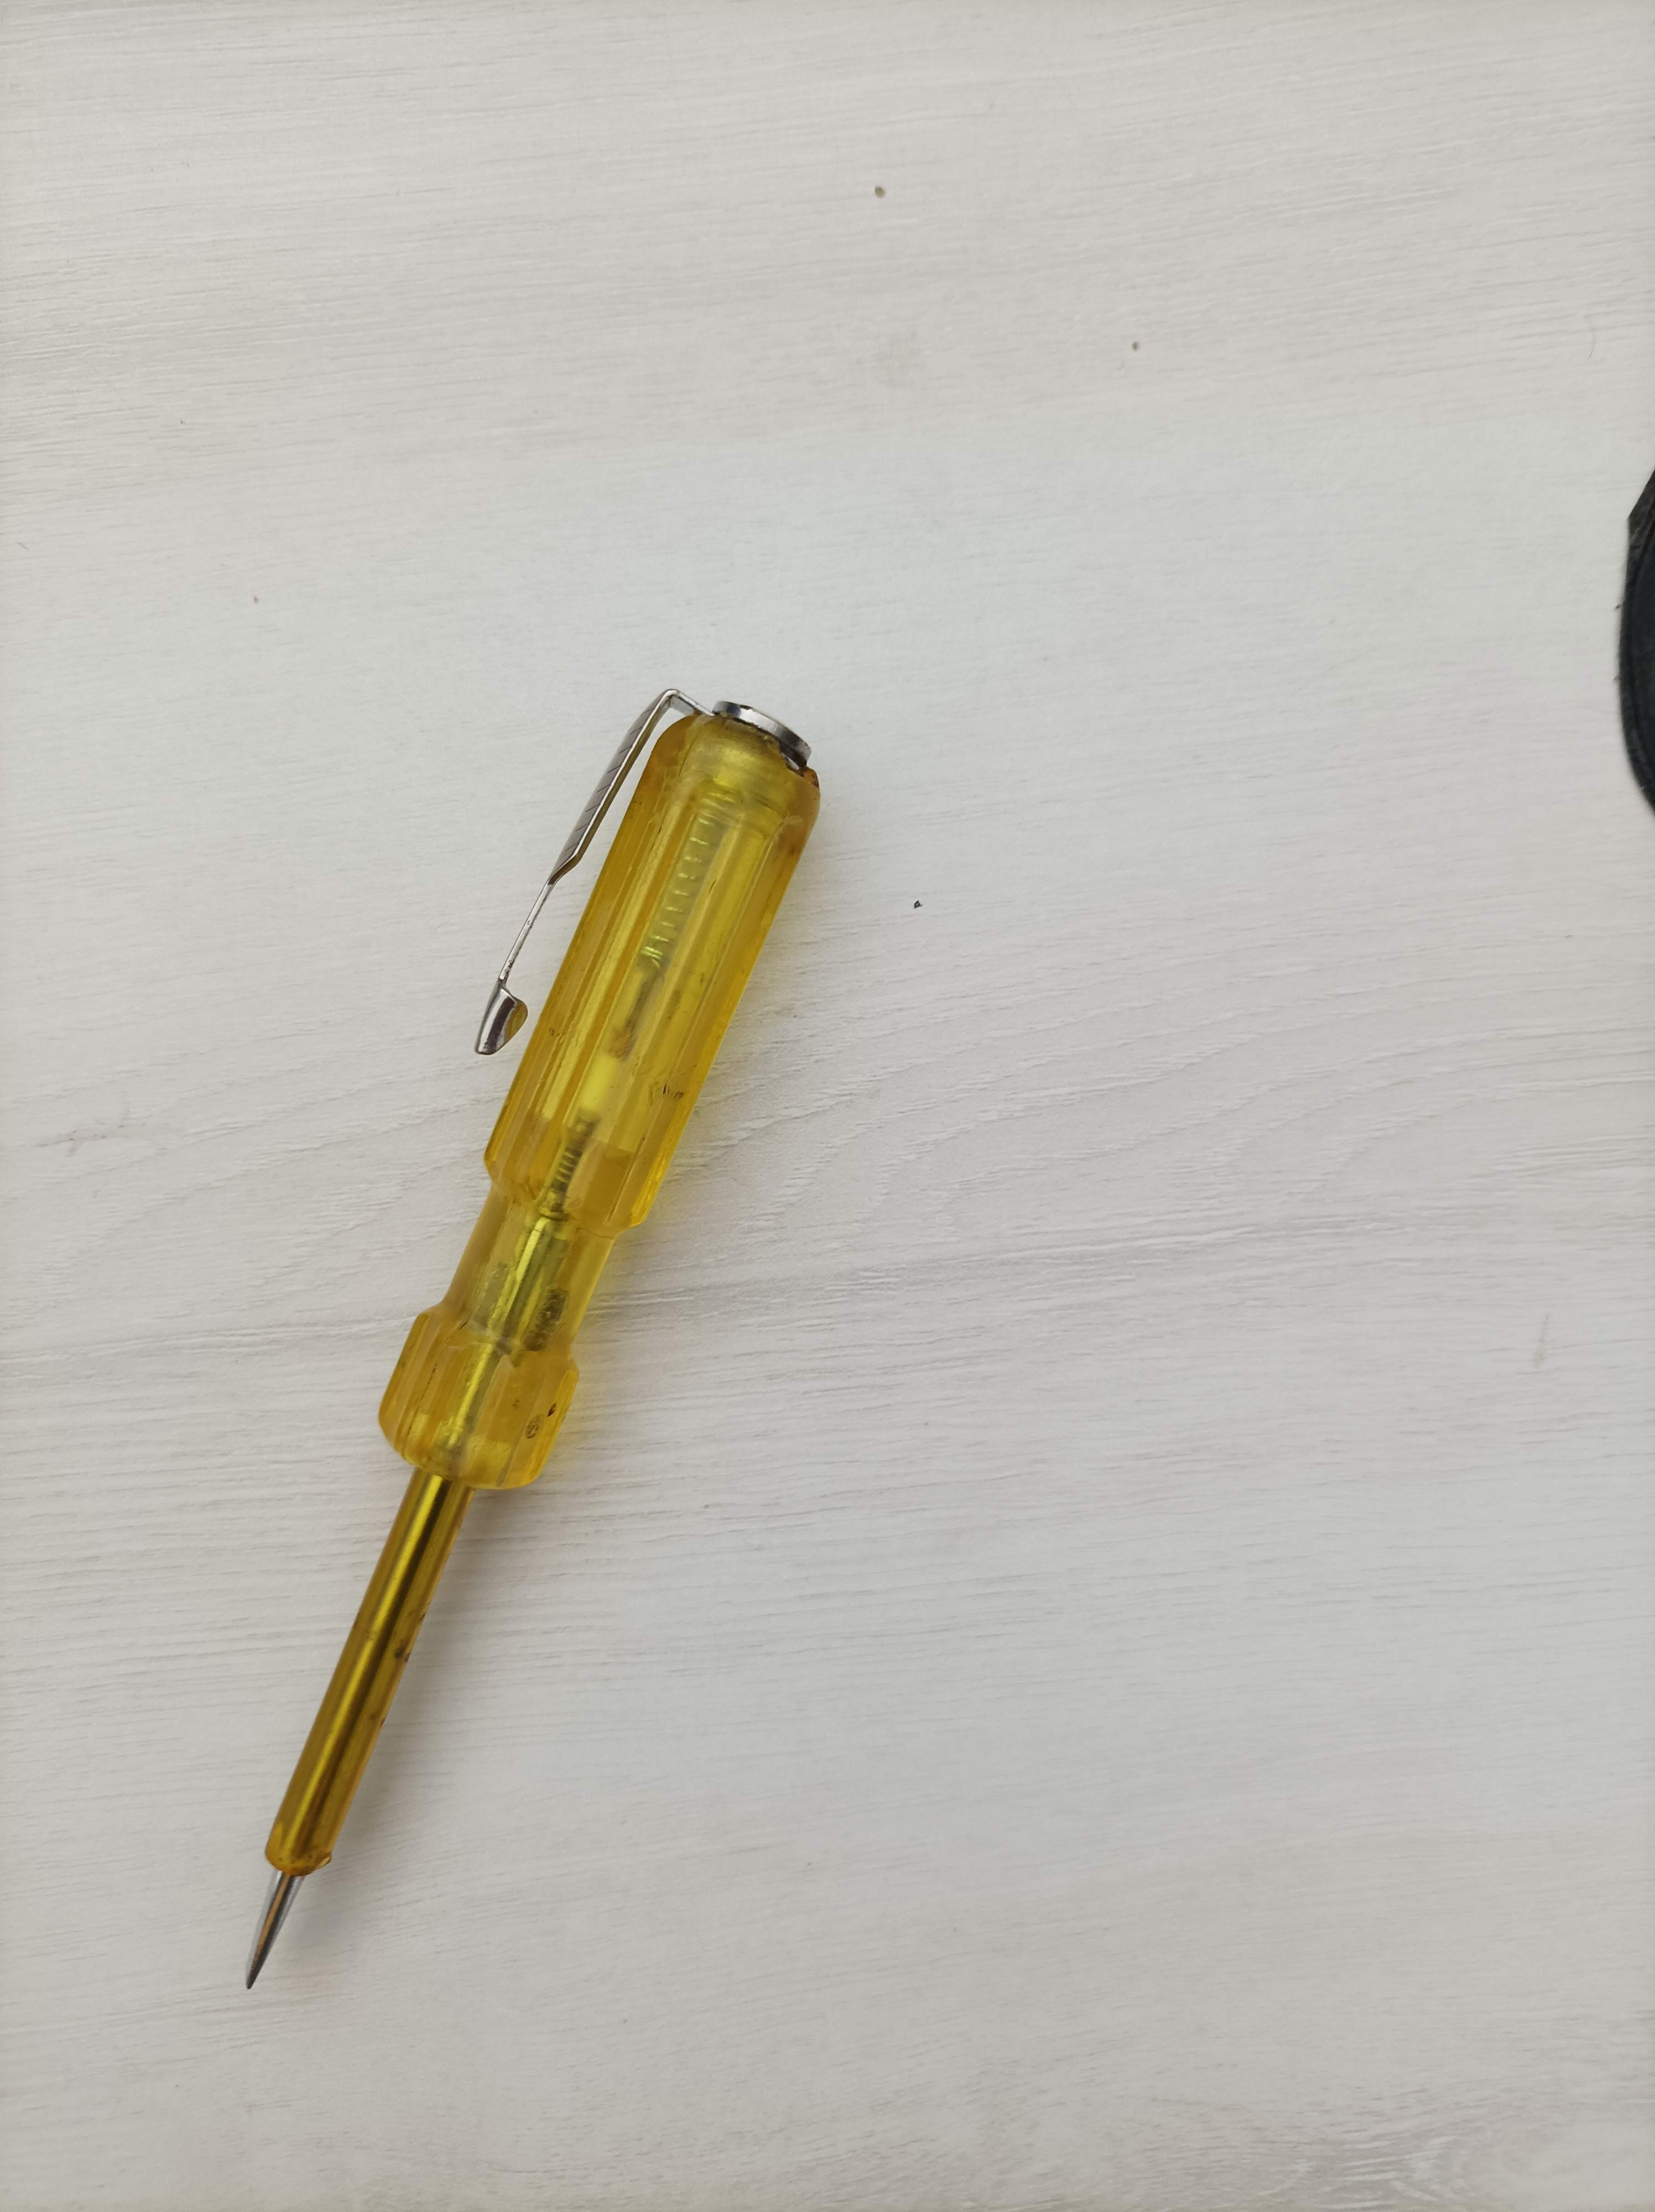screwdriver: (228, 674, 833, 2002)
